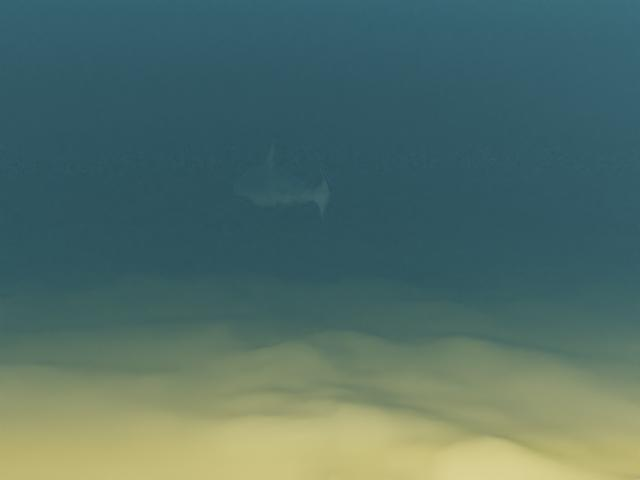Carribean Shark.001: (203, 138, 333, 225)
